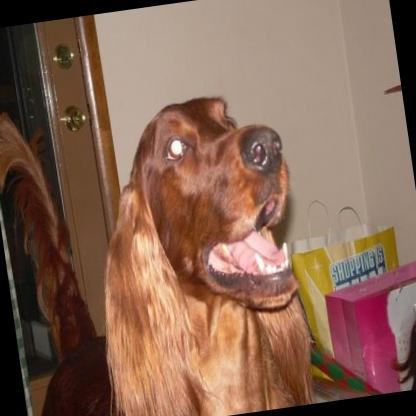Irish_setter: (0, 70, 322, 416)
